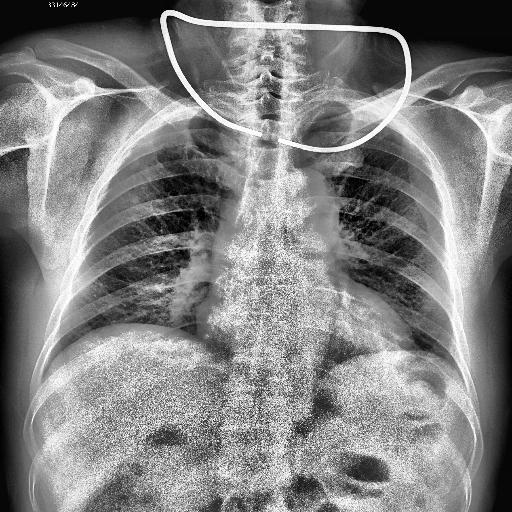0- Aortic enlargement: (276, 166, 337, 241), (276, 168, 337, 224), (282, 170, 327, 230)
3- Cardiomegaly: (194, 288, 416, 352), (194, 308, 415, 360)
